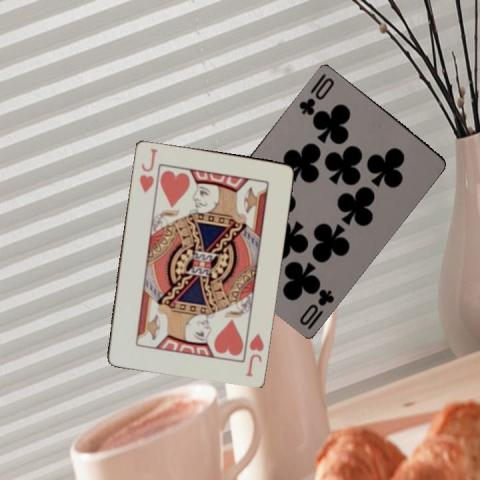10c: (296, 286, 336, 332), (295, 74, 336, 117)
Jh: (136, 145, 159, 194), (242, 330, 265, 377)
